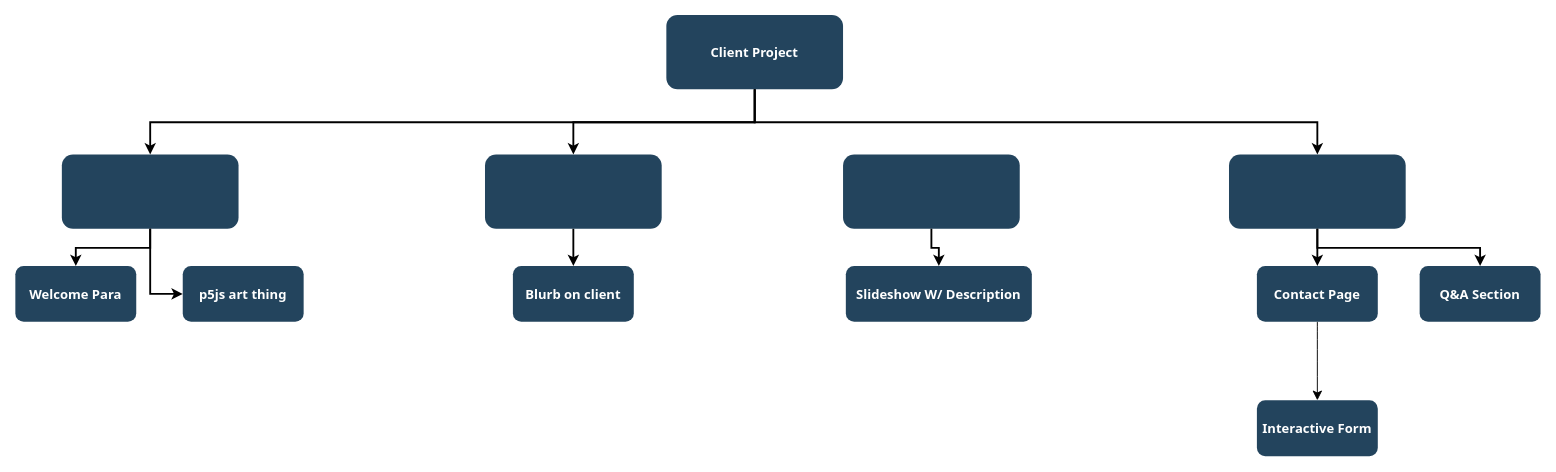
Some shapes in this 1556 by 472 pixel diagram are drawn without their labels. The centre of each missing label's shape, as x and y in pixels:
"About" goes at (573,191).
"FAQ" goes at (1317,191).
"Gallery" goes at (931,191).
"Home" goes at (149,191).
